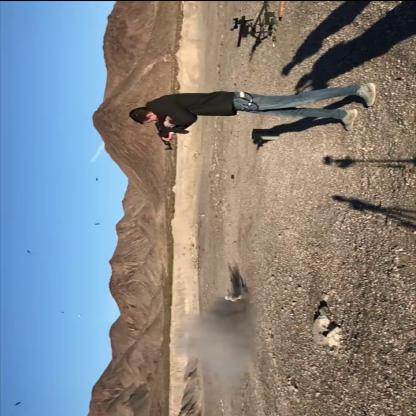long weapon: (220, 12, 268, 56), (153, 106, 189, 156)
